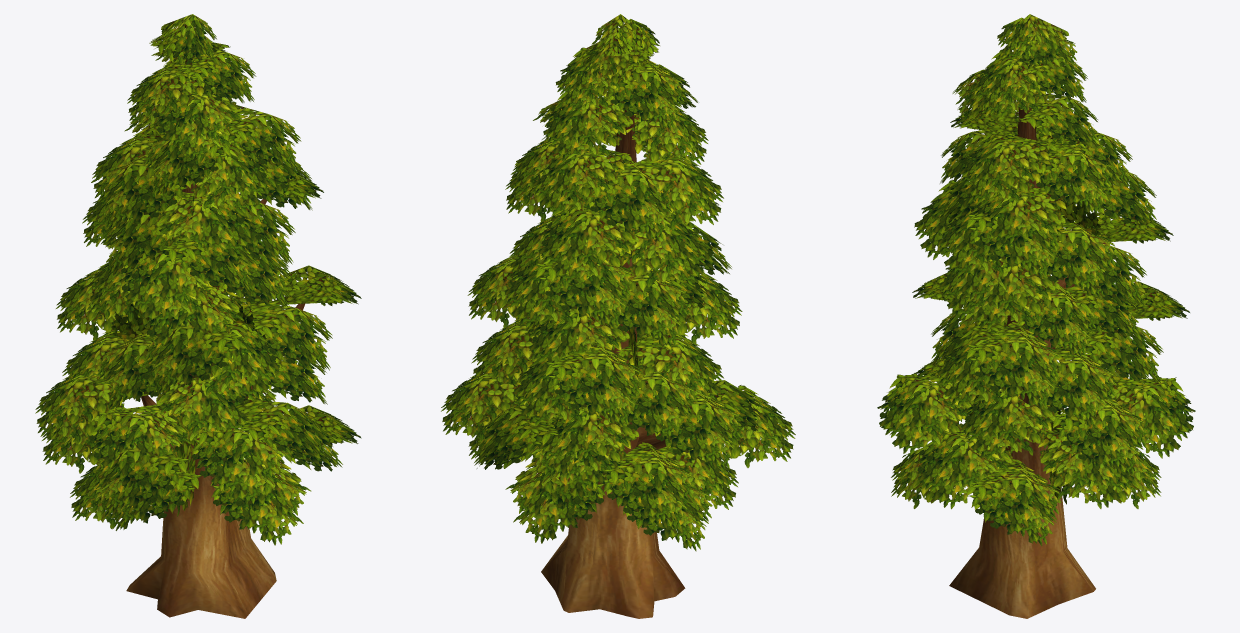
The model's file is obj_madaprtree01.glb.
3 views of the same model, side by side, from view 1: azimuth 30°, elevation 25°; view 2: azimuth 150°, elevation 25°; view 3: azimuth 270°, elevation 25° (orthographic). The views are drawn at different scales.
Parts seen in each view (by area): view 1: part_0; view 2: part_0; view 3: part_0.
Boxes of the visible parts, x1,y1,x2,y2 form: part_0: [35, 14, 361, 618]; part_0: [441, 14, 795, 618]; part_0: [877, 14, 1195, 618].
Bounding box in the file's own units: 12.71 × 21.6 × 13.09.
2 materials, 2 textured.
